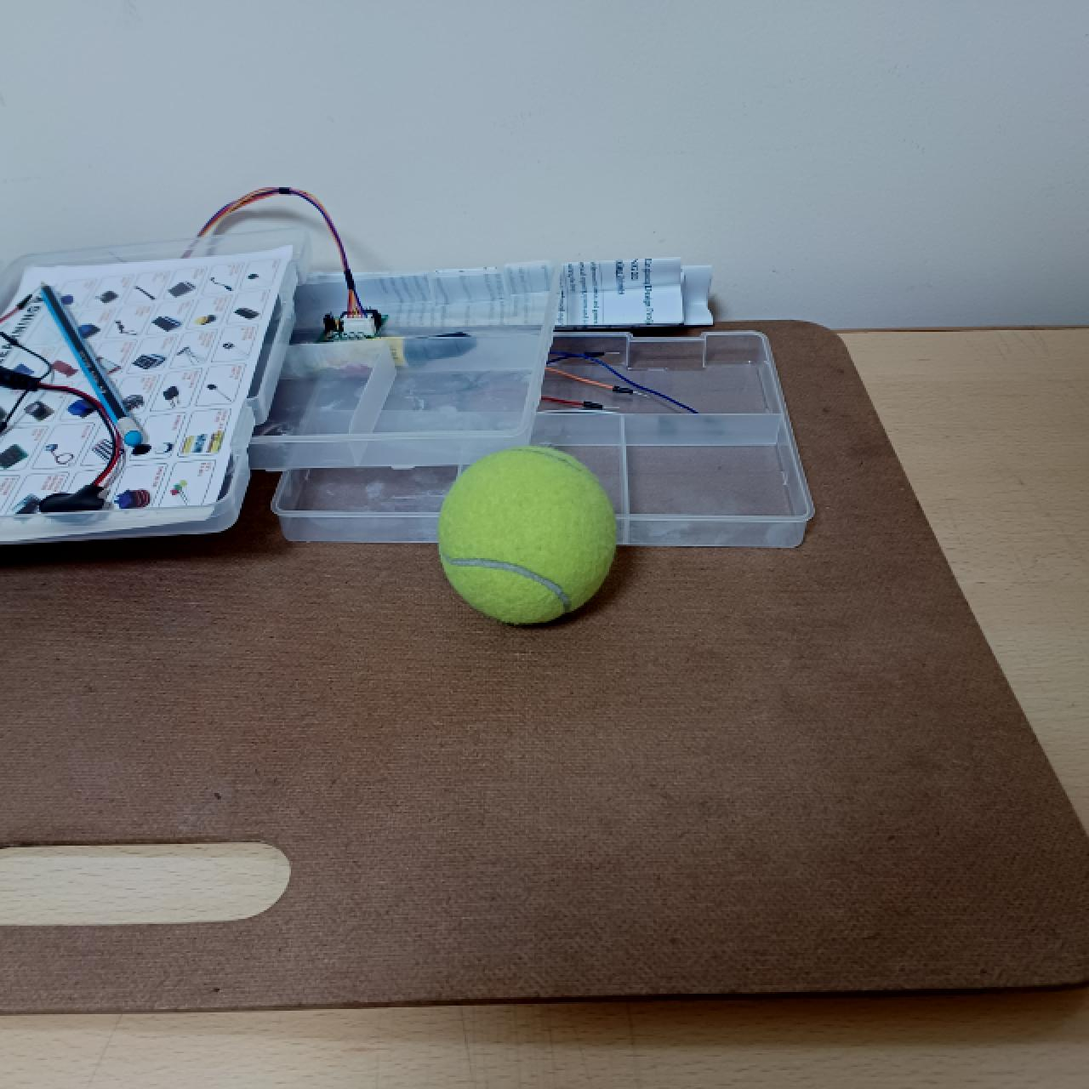tennis-ball: (441, 447, 620, 626)
